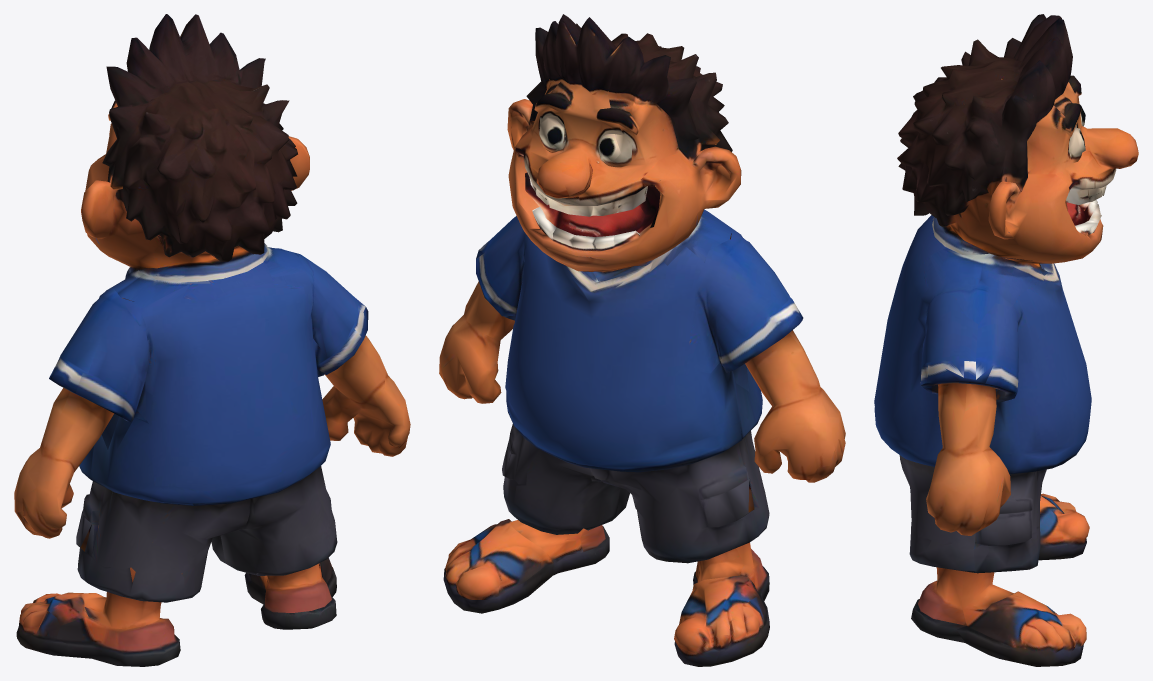
Rendered from voceador.glb.
3 renders of one model, left to right at view 1: azimuth 30°, elevation 25°; view 2: azimuth 150°, elevation 25°; view 3: azimuth 270°, elevation 25°, orthographic. The views are drawn at different scales.
Parts seen in each view (by area): view 1: Torso, Cabeza, BrazoIzquierdo, PiernaIzquierda, BrazoDerecho, PiernaDerecha; view 2: Torso, Cabeza, BrazoIzquierdo, PiernaIzquierda, PiernaDerecha, BrazoDerecho; view 3: Cabeza, Torso, BrazoDerecho, PiernaDerecha, PiernaIzquierda.
Boxes of the visible parts, x1=… form: Torso: x1=76, y1=247, x2=333, y2=596; Cabeza: x1=81, y1=14, x2=309, y2=282; BrazoIzquierdo: x1=14, y1=288, x2=148, y2=538; PiernaIzquierda: x1=16, y1=548, x2=201, y2=666; BrazoDerecho: x1=285, y1=250, x2=410, y2=456; PiernaDerecha: x1=244, y1=515, x2=337, y2=629; Torso: x1=502, y1=209, x2=764, y2=549; Cabeza: x1=507, y1=14, x2=741, y2=261; BrazoIzquierdo: x1=685, y1=232, x2=845, y2=482; PiernaIzquierda: x1=642, y1=491, x2=769, y2=666; PiernaDerecha: x1=443, y1=477, x2=609, y2=613; BrazoDerecho: x1=439, y1=216, x2=528, y2=403; Cabeza: x1=897, y1=14, x2=1138, y2=260; Torso: x1=874, y1=215, x2=1103, y2=549; BrazoDerecho: x1=920, y1=280, x2=1040, y2=535; PiernaDerecha: x1=909, y1=522, x2=1086, y2=666; PiernaIzquierda: x1=910, y1=487, x2=1089, y2=560.
Bounding box in the file's own units: 0.9822 × 1.45 × 0.5935.
1 material, 1 textured.
